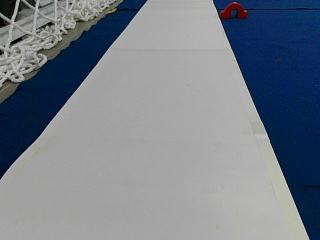bridge: (221, 3, 248, 18)
